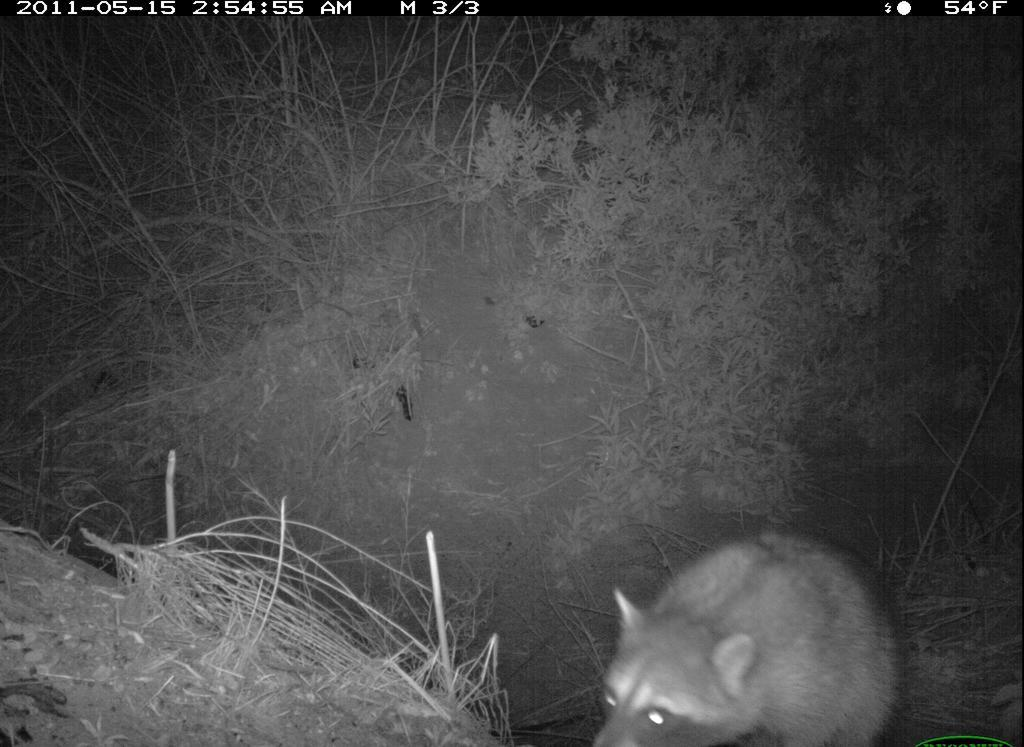raccoon: (574, 509, 900, 747)
